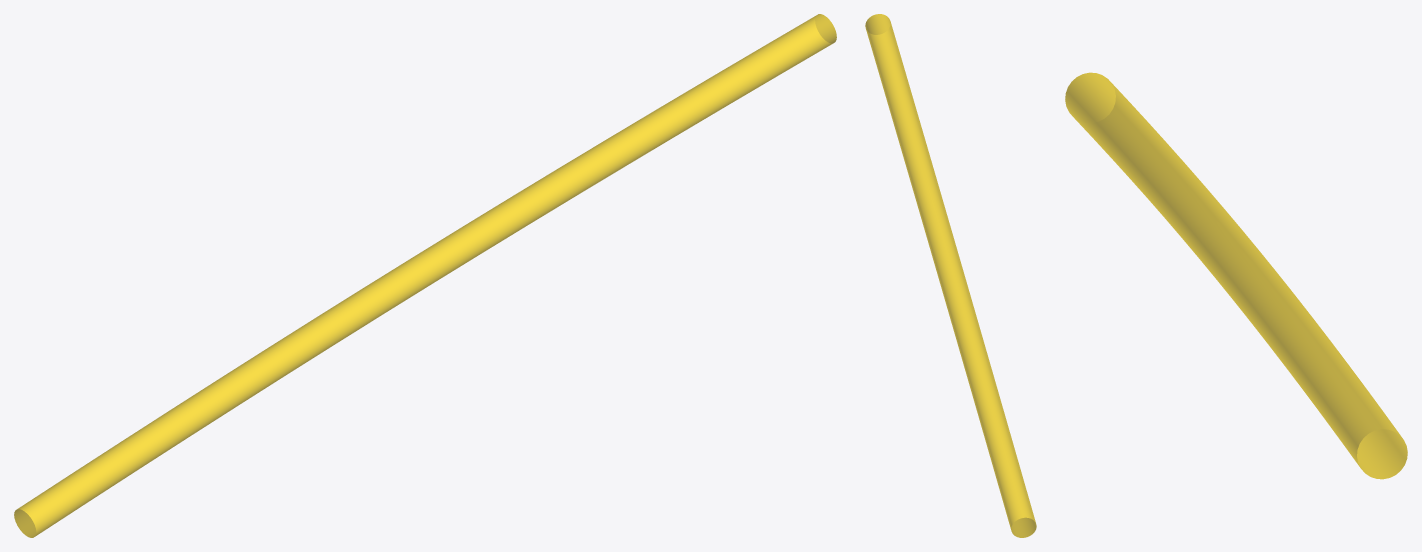
The model's file is Event_100608114_track_32.fbx.
3 renders of one model, left to right at view 1: azimuth 90°, elevation 25°; view 2: azimuth 150°, elevation 25°; view 3: azimuth 330°, elevation 25°, orthographic. The views are drawn at different scales.
Visible parts, largest first — view 1: Model; view 2: Model; view 3: Model.
Boxes of the visible parts, x1,y1,x2,y2 form: Model: (14, 14, 836, 537); Model: (865, 14, 1036, 537); Model: (1065, 72, 1407, 479).
Size of the model in its own units: 0.8502 by 0.3167 by 0.9941.
